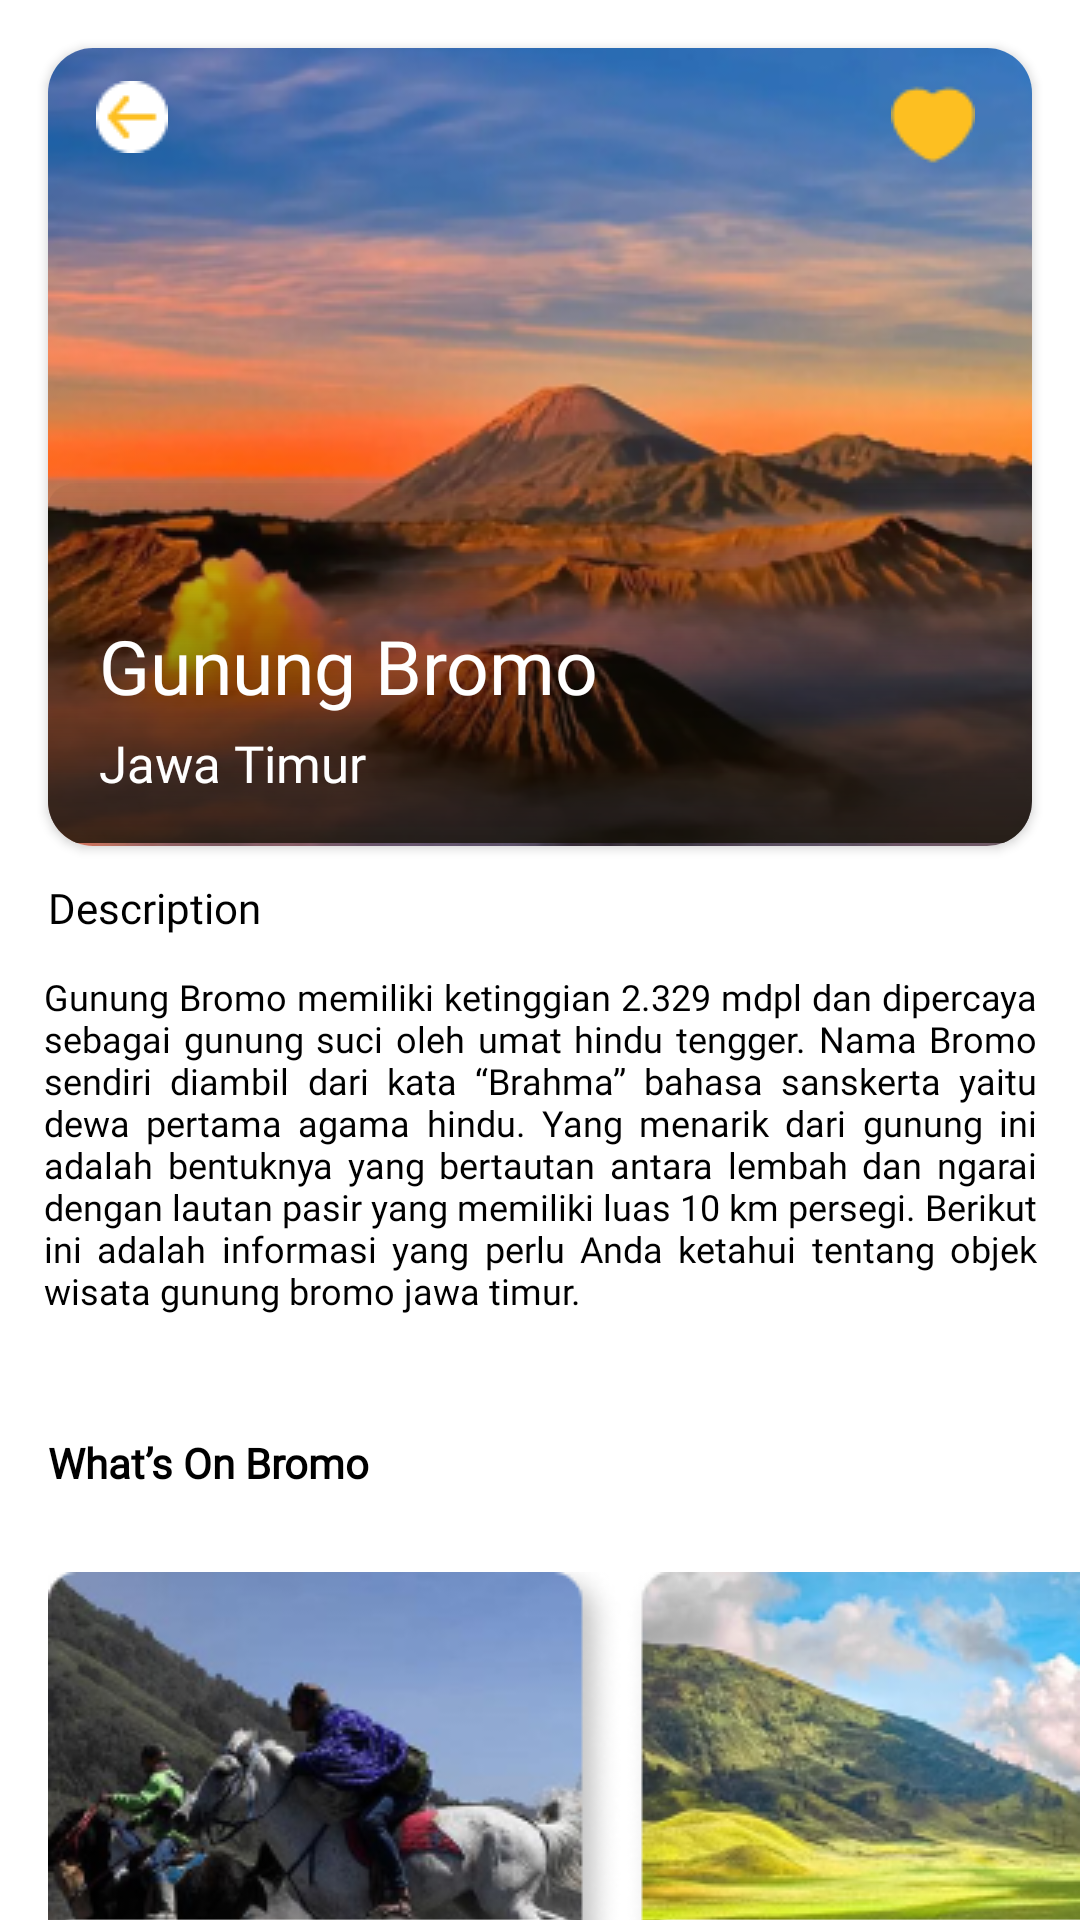

Named icons in this screenshot (1080 x 1920) and their centers, (x=x, y=y):
backyellow: (x=132, y=117)
favoriteyellow ikon: (x=933, y=126)
